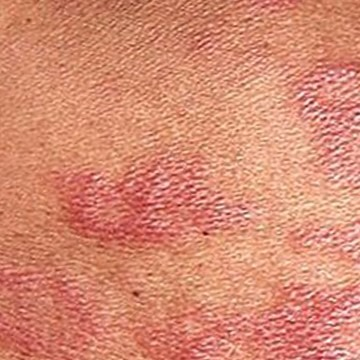Leprosy: (139, 279, 359, 359), (62, 160, 266, 240), (290, 58, 359, 195), (285, 219, 359, 263)
